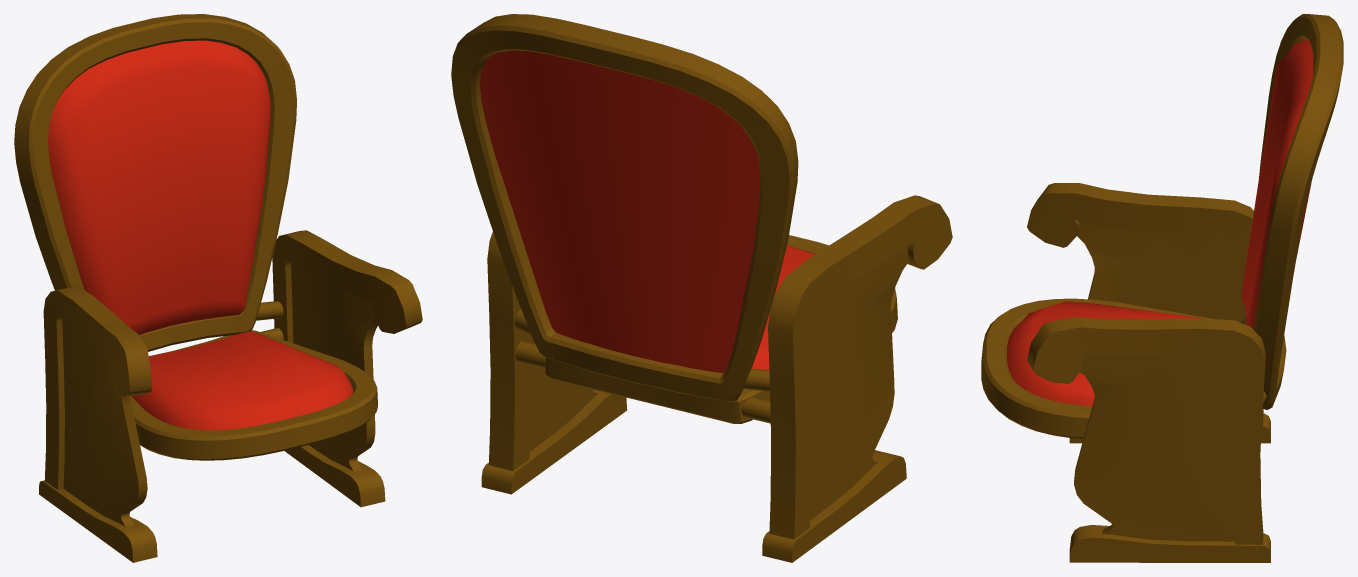
The model's file is Siege_Velour_01.FBX.
The picture shows the model from 3 angles, left to right: view 1: azimuth 30°, elevation 25°; view 2: azimuth 150°, elevation 25°; view 3: azimuth 270°, elevation 25°; orthographic projection. The views are drawn at different scales.
Parts seen in each view (by area): view 1: Siege_Velour_01_LOD0; view 2: Siege_Velour_01_LOD0; view 3: Siege_Velour_01_LOD0.
Boxes of the visible parts, left/top/right/bottom form: Siege_Velour_01_LOD0: left=14, top=14, right=422, bottom=562; Siege_Velour_01_LOD0: left=451, top=14, right=952, bottom=562; Siege_Velour_01_LOD0: left=981, top=14, right=1343, bottom=562.
Size of the model in its own units: 112 by 153 by 112.
